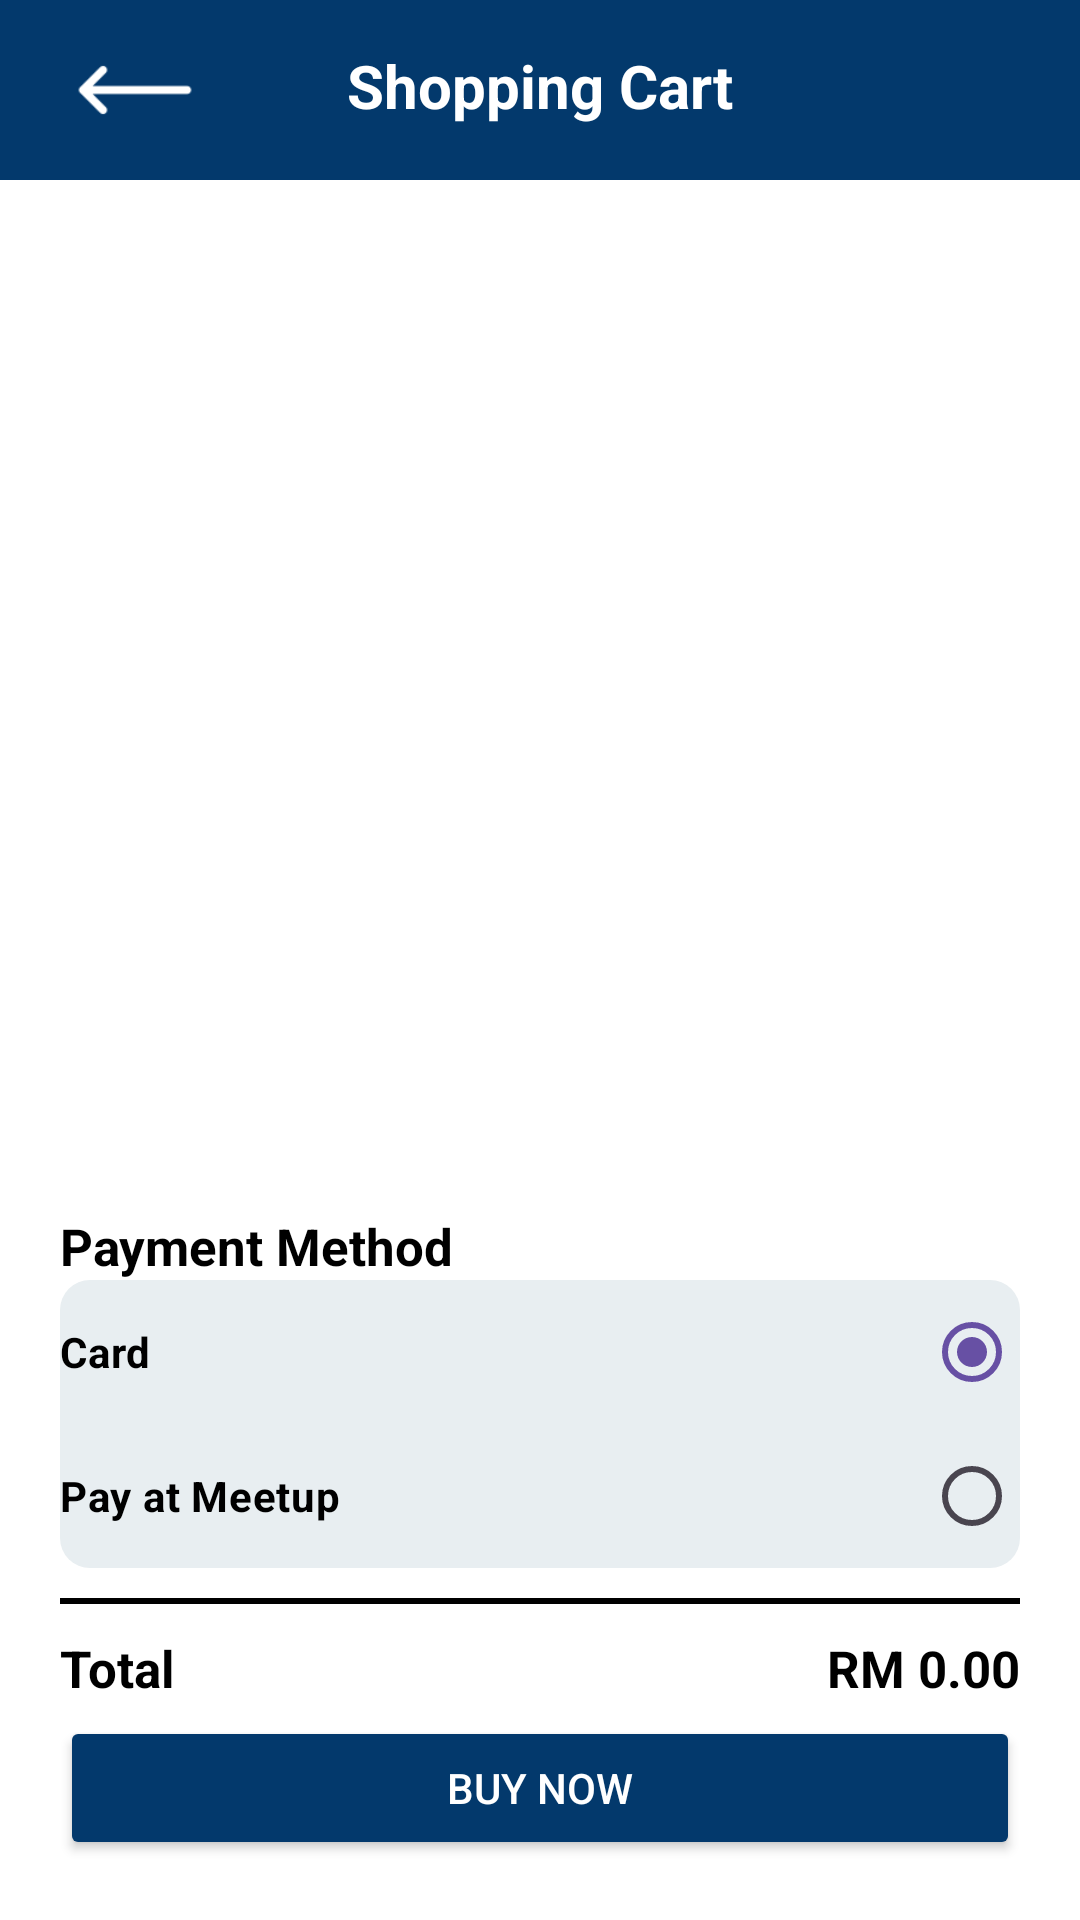

Screen size 1080x1920. Icon name, then its box in pixels as (x1, y1, x2, y2):
back arrow: (78, 66, 192, 114)
